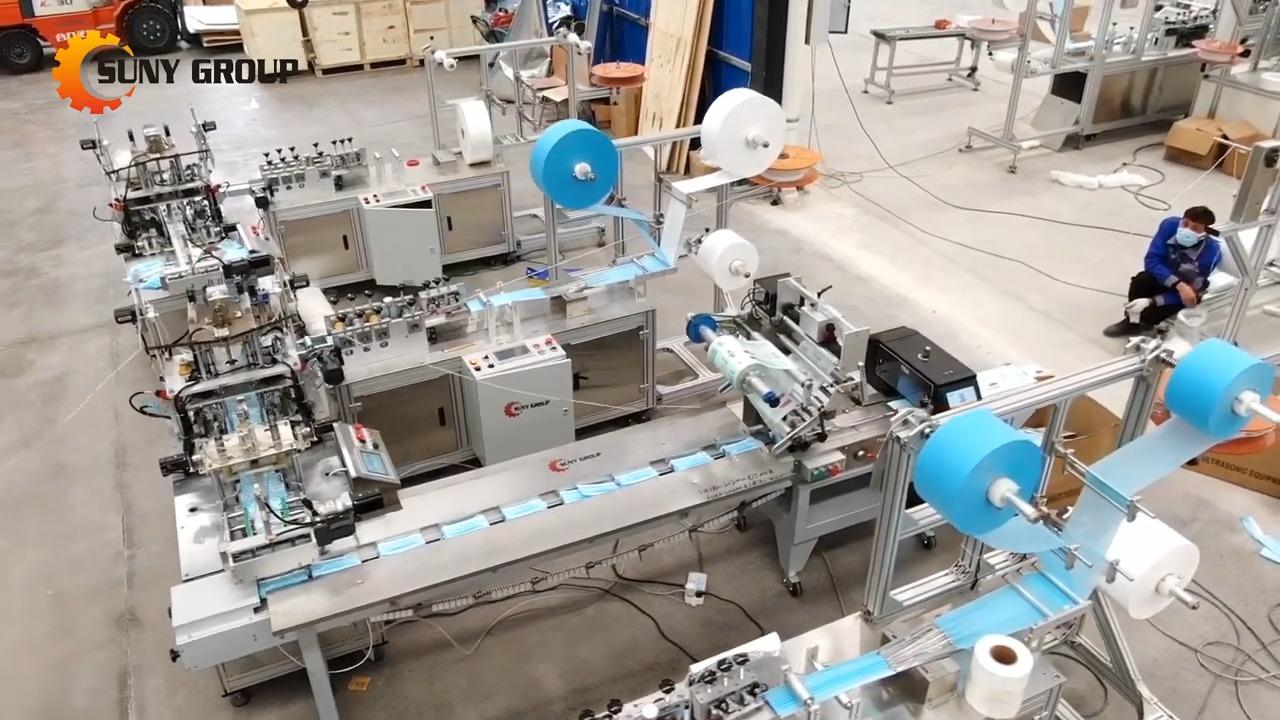mask: (310, 550, 362, 579), (259, 568, 309, 598), (376, 530, 426, 560), (499, 494, 551, 522), (440, 513, 491, 541), (615, 464, 661, 488), (669, 449, 715, 472), (722, 435, 766, 456), (576, 479, 620, 497)
